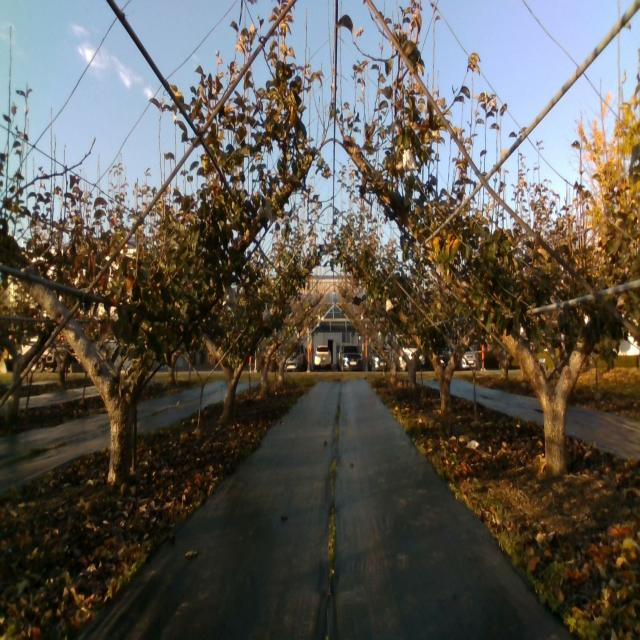pearbags: (257, 198, 272, 222), (403, 148, 418, 171), (224, 285, 237, 305)
